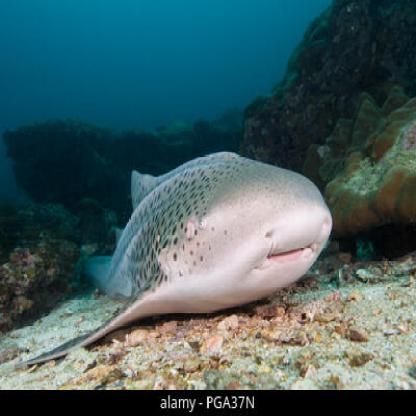zebra_shark: (23, 142, 339, 366)
